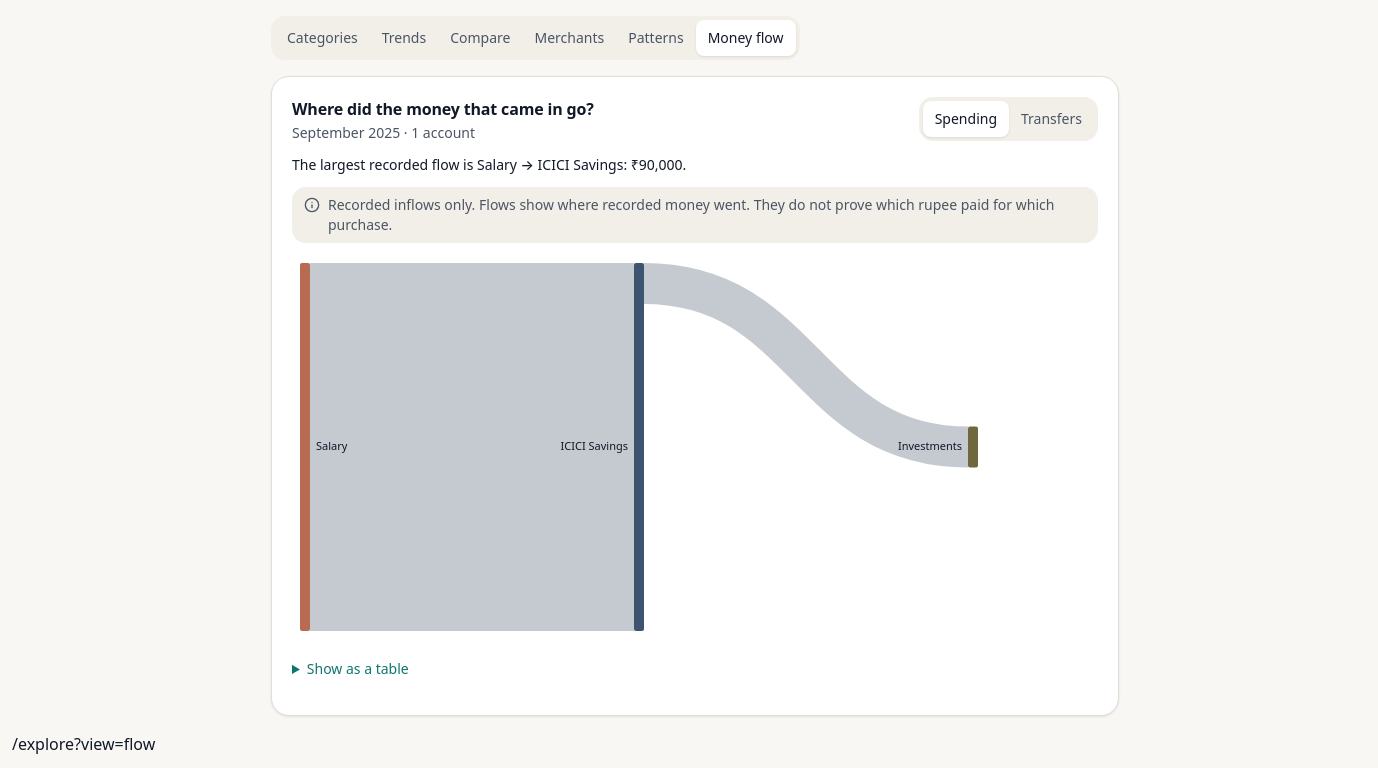
Scenario: Explore: money flow › has a separate transfers view with its own note
Expected: the element that starts with "Recorded inflows only." is shown, [292,187,1098,243]
Step 1. Click the radio button labelled "Transfers" → click(1052, 119), box [1009,101,1094,137]
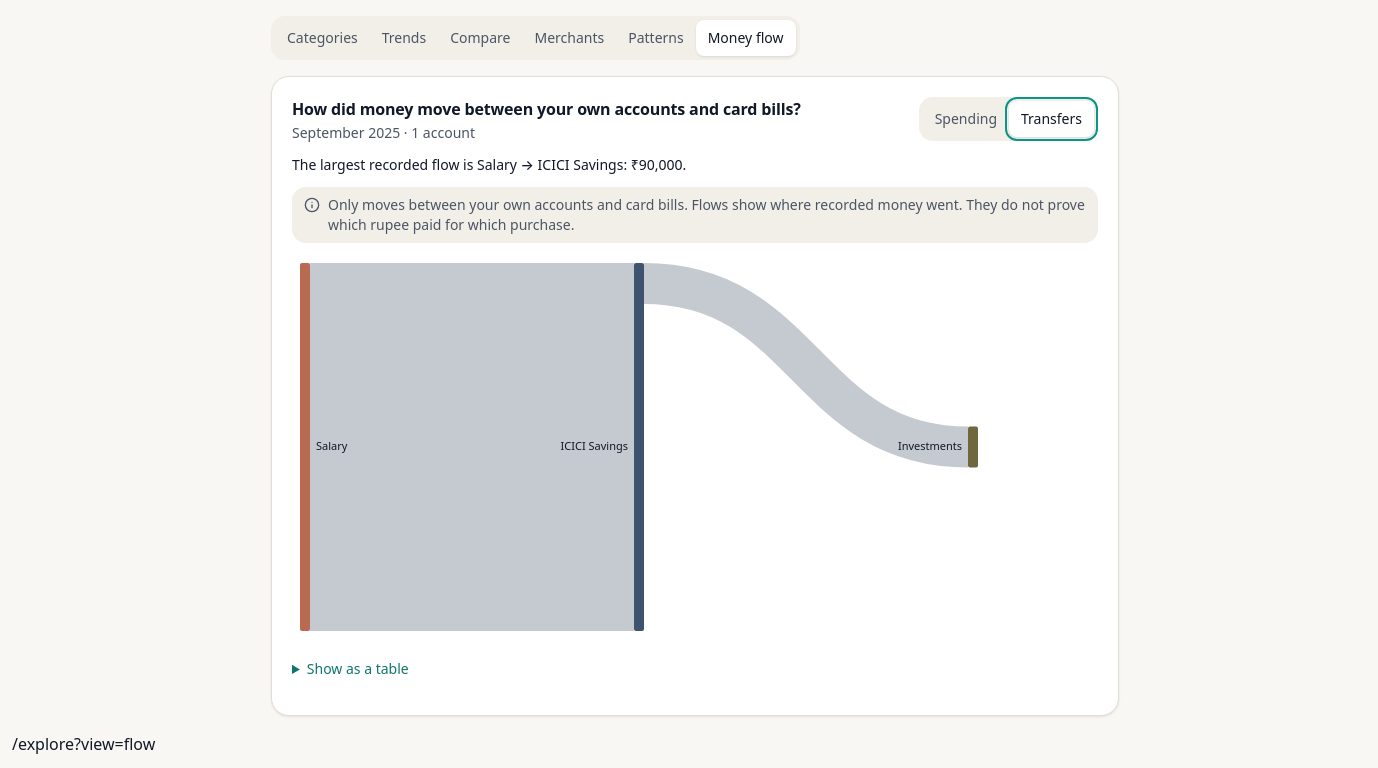
Expected: the text "Flows show where recorded money went. They do not prove which rupee paid for which purchase." is shown, [328,195,1085,234]
Expected: the heading "How did money move between your own accounts and card bills?" is shown, [292,97,801,121]
Expected: the text "Only moves between your own accounts" is shown, [328,195,688,214]
